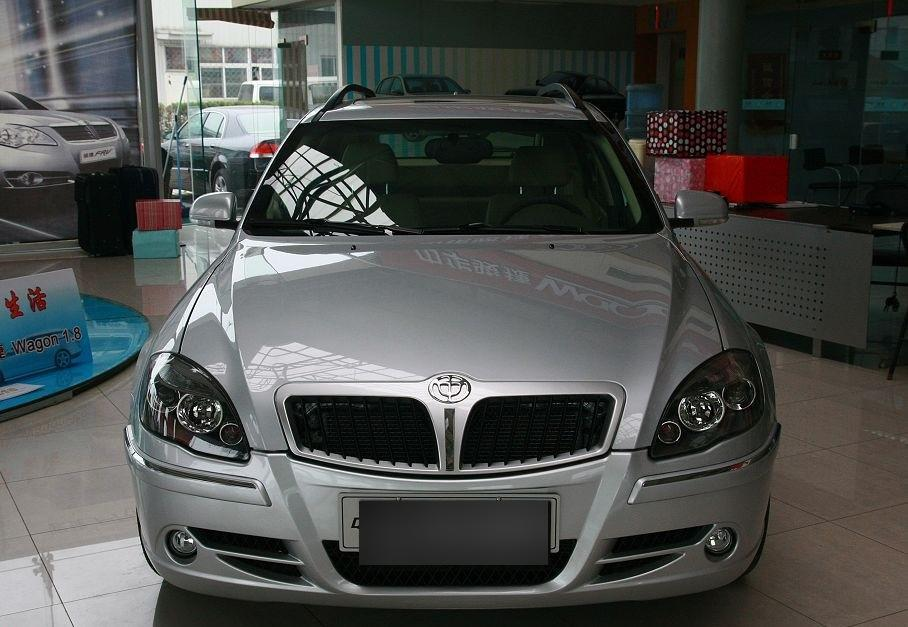Wagon: (123, 82, 781, 610)
